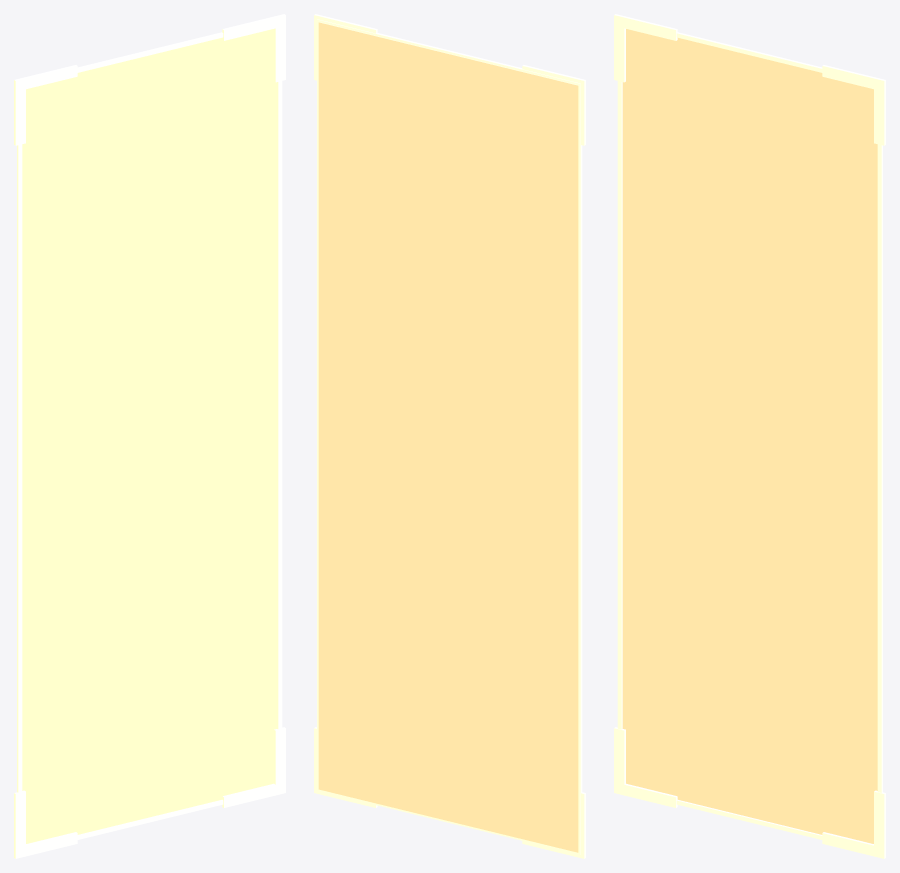
File: slot_outline_8hp.glb
3 views of the same model, side by side, from view 1: azimuth 30°, elevation 25°; view 2: azimuth 150°, elevation 25°; view 3: azimuth 330°, elevation 25° (orthographic).
Parts seen in each view (by area): view 1: SlotOutline_Fill, SlotOutline_Edge, SlotOutline_Corner3, SlotOutline_Corner0, SlotOutline_Corner2, SlotOutline_Corner1; view 2: SlotOutline_Fill, SlotOutline_Edge, SlotOutline_Corner3, SlotOutline_Corner0, SlotOutline_Corner2; view 3: SlotOutline_Fill, SlotOutline_Edge, SlotOutline_Corner2, SlotOutline_Corner1, SlotOutline_Corner3, SlotOutline_Corner0.
Boxes of the visible parts, bbox=[...] form: SlotOutline_Fill: bbox=[22, 29, 277, 843]; SlotOutline_Edge: bbox=[17, 32, 282, 839]; SlotOutline_Corner3: bbox=[14, 65, 77, 145]; SlotOutline_Corner0: bbox=[14, 790, 77, 858]; SlotOutline_Corner2: bbox=[222, 14, 285, 82]; SlotOutline_Corner1: bbox=[222, 727, 285, 807]; SlotOutline_Fill: bbox=[318, 22, 578, 852]; SlotOutline_Edge: bbox=[317, 19, 582, 854]; SlotOutline_Corner3: bbox=[522, 65, 585, 145]; SlotOutline_Corner0: bbox=[522, 792, 585, 858]; SlotOutline_Corner2: bbox=[314, 14, 377, 80]; SlotOutline_Fill: bbox=[622, 29, 877, 843]; SlotOutline_Edge: bbox=[617, 32, 882, 839]; SlotOutline_Corner2: bbox=[822, 65, 885, 145]; SlotOutline_Corner1: bbox=[822, 790, 885, 858]; SlotOutline_Corner3: bbox=[614, 14, 677, 82]; SlotOutline_Corner0: bbox=[614, 727, 677, 807].
Size of the model in its own units: 0.4184 by 1.15 by 0.006.
